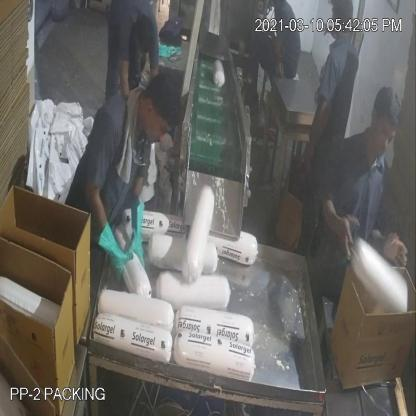glove: (94, 208, 132, 287), (121, 185, 152, 269)
no_glove: (315, 186, 366, 276), (296, 87, 338, 172), (382, 214, 406, 282)
